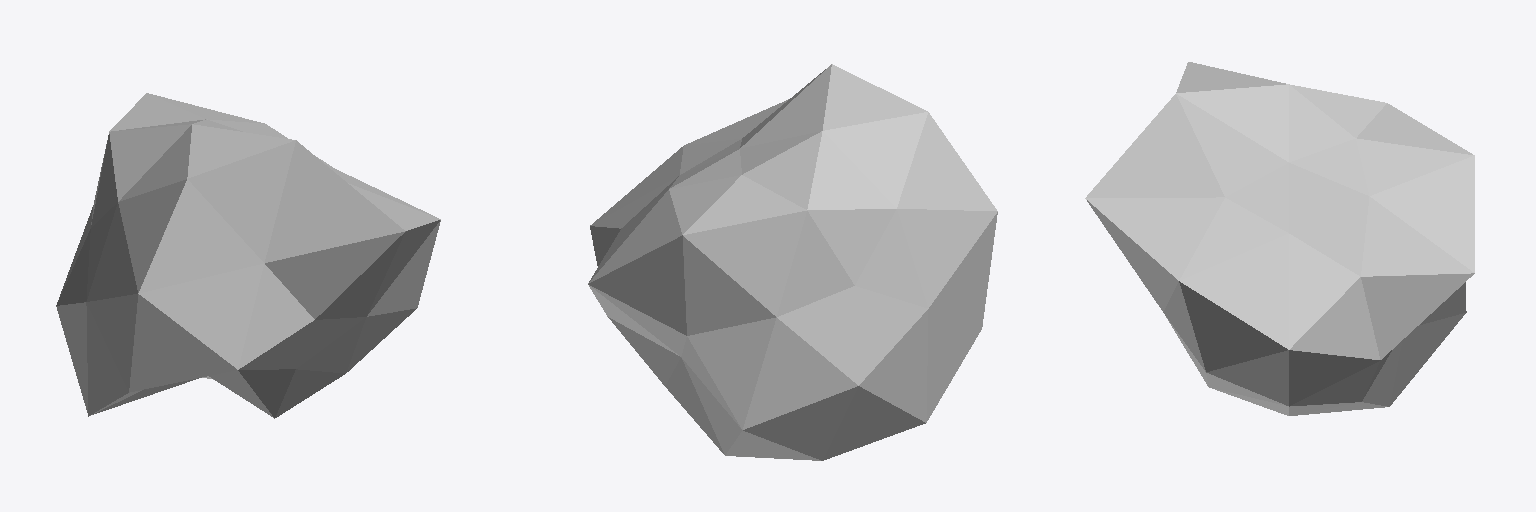
Rendered from treeTop.obj.
3 views of the same model, side by side, from view 1: azimuth 30°, elevation 25°; view 2: azimuth 150°, elevation 25°; view 3: azimuth 270°, elevation 25° (orthographic).
Parts seen in each view (by area): view 1: default; view 2: default; view 3: default.
Boxes of the visible parts, box(x1,y1,x2,y2) form: default: box(56, 93, 440, 418); default: box(588, 64, 997, 460); default: box(1085, 62, 1474, 415).
Size of the model in its own units: 2.13 by 1.84 by 2.07.